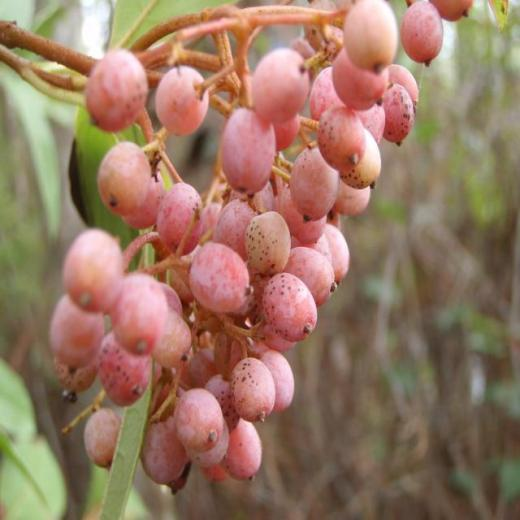Orange: (48, 0, 474, 496)
